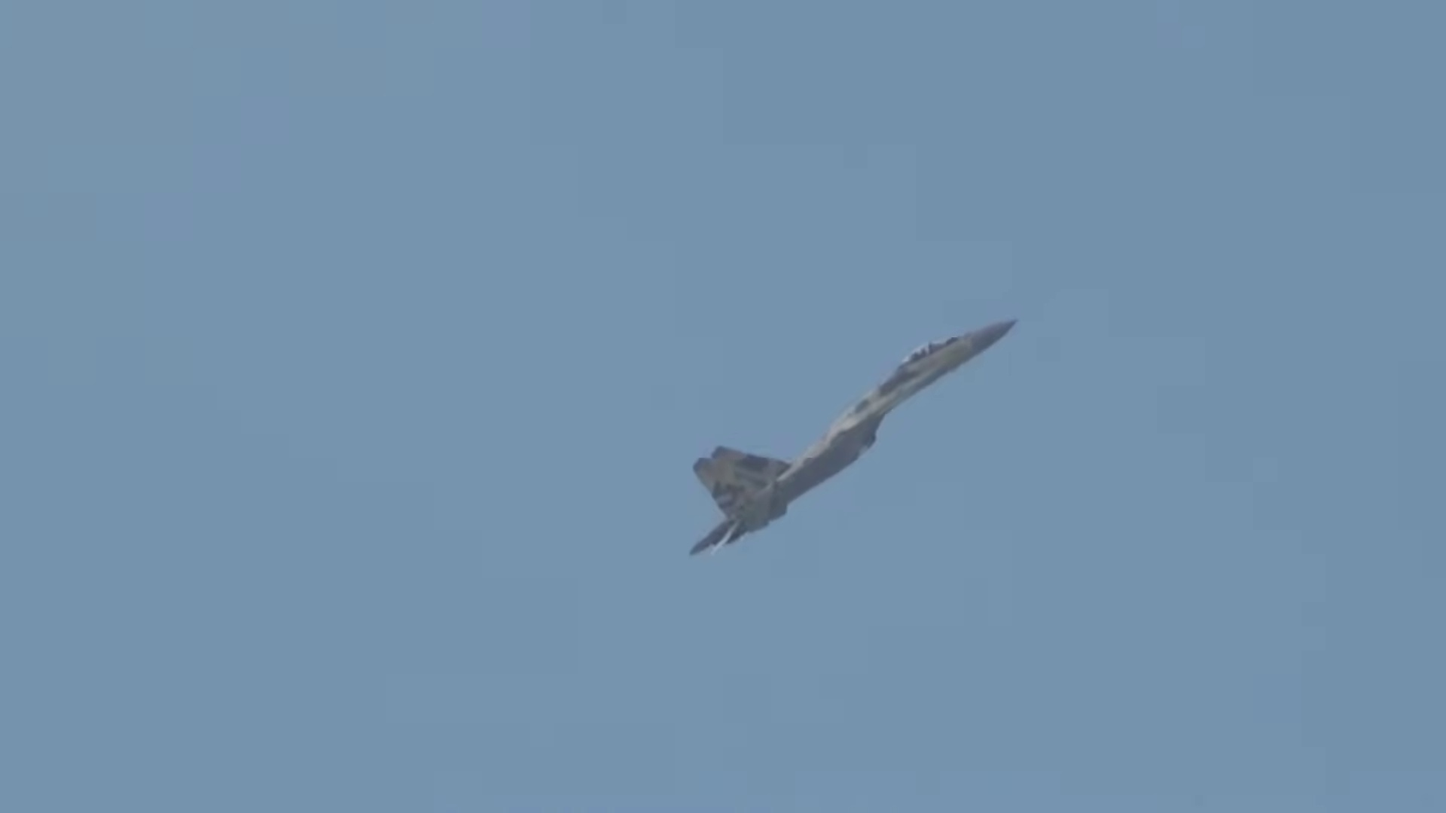Su35: (682, 315, 1023, 561)
